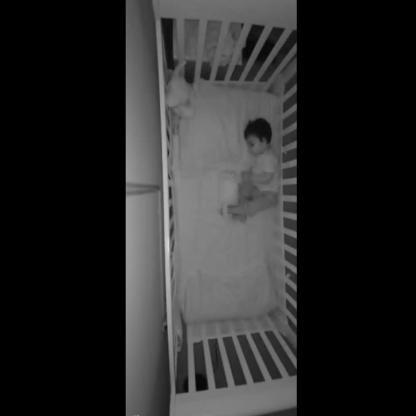baby: (218, 118, 280, 224)
